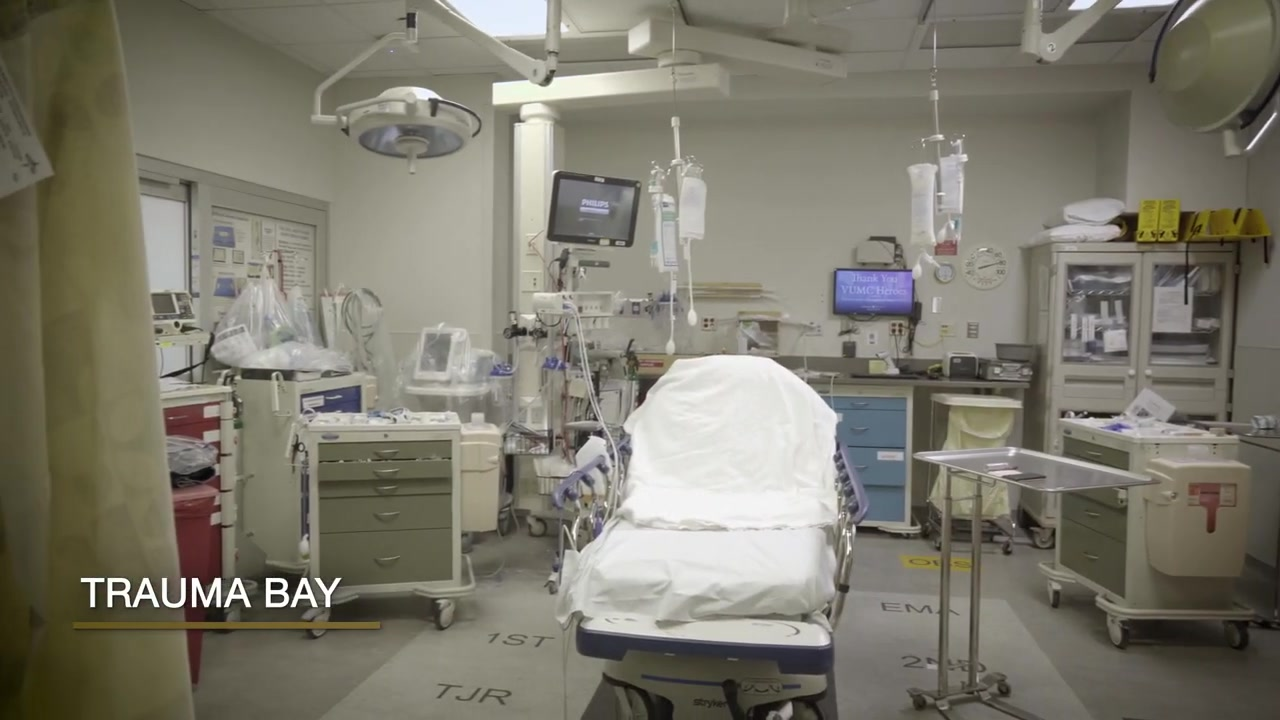bedrail: (556, 432, 633, 550), (829, 437, 871, 626)
bedside_monitor: (547, 169, 642, 248), (412, 327, 462, 382)
cabinet: (1038, 234, 1246, 579)
computer: (831, 268, 922, 321)
curtain: (1, 1, 200, 714)
handle: (370, 510, 404, 522), (374, 553, 403, 565), (1080, 548, 1101, 563), (372, 466, 402, 476), (1082, 446, 1106, 458), (1083, 509, 1105, 522), (372, 485, 400, 495), (372, 448, 400, 457), (323, 393, 345, 404), (850, 460, 867, 473), (850, 399, 871, 408), (850, 424, 870, 433), (1144, 367, 1154, 380), (1128, 366, 1136, 379)
keyboard: (850, 373, 919, 380)
medical_drawer: (1038, 411, 1280, 651), (288, 411, 475, 635), (210, 364, 352, 579), (148, 380, 241, 626), (815, 387, 915, 531)
medical_waste_container: (1144, 457, 1253, 584)
mouse: (927, 373, 939, 380)
operating_bed: (554, 353, 871, 720)
overbed_table: (908, 444, 1163, 720)
surgical_light: (347, 98, 472, 175)
utility_cart: (925, 393, 1026, 556)
